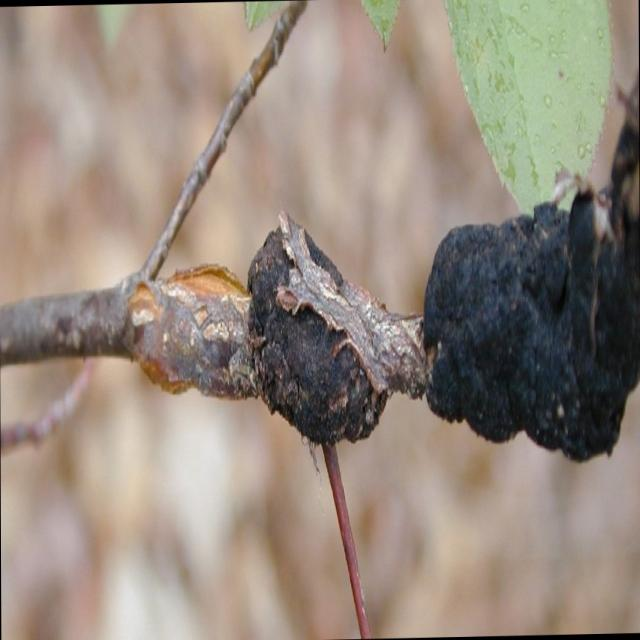Black_knot: (422, 191, 636, 462), (246, 205, 427, 450)
